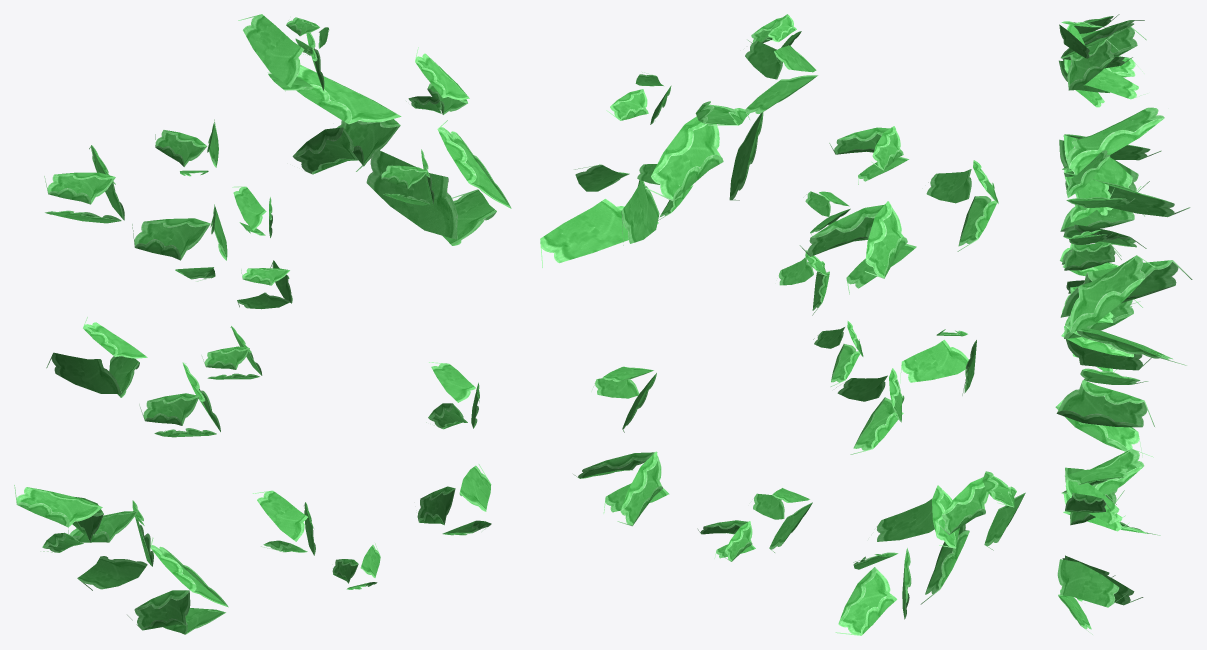
File: detailmesh_grass.FBX
The picture shows the model from 3 angles, left to right: view 1: azimuth 30°, elevation 25°; view 2: azimuth 150°, elevation 25°; view 3: azimuth 270°, elevation 25°; orthographic projection. The views are drawn at different scales.
Visible parts, largest first — view 1: grass_mesh; view 2: grass_mesh; view 3: grass_mesh.
Boxes of the visible parts, x1,y1,x2,y2 form: grass_mesh: [14, 14, 511, 634]; grass_mesh: [540, 14, 1025, 635]; grass_mesh: [1055, 14, 1192, 634].
Bounding box in the file's own units: 238 × 282 × 62.58.
1 material, 1 textured.
